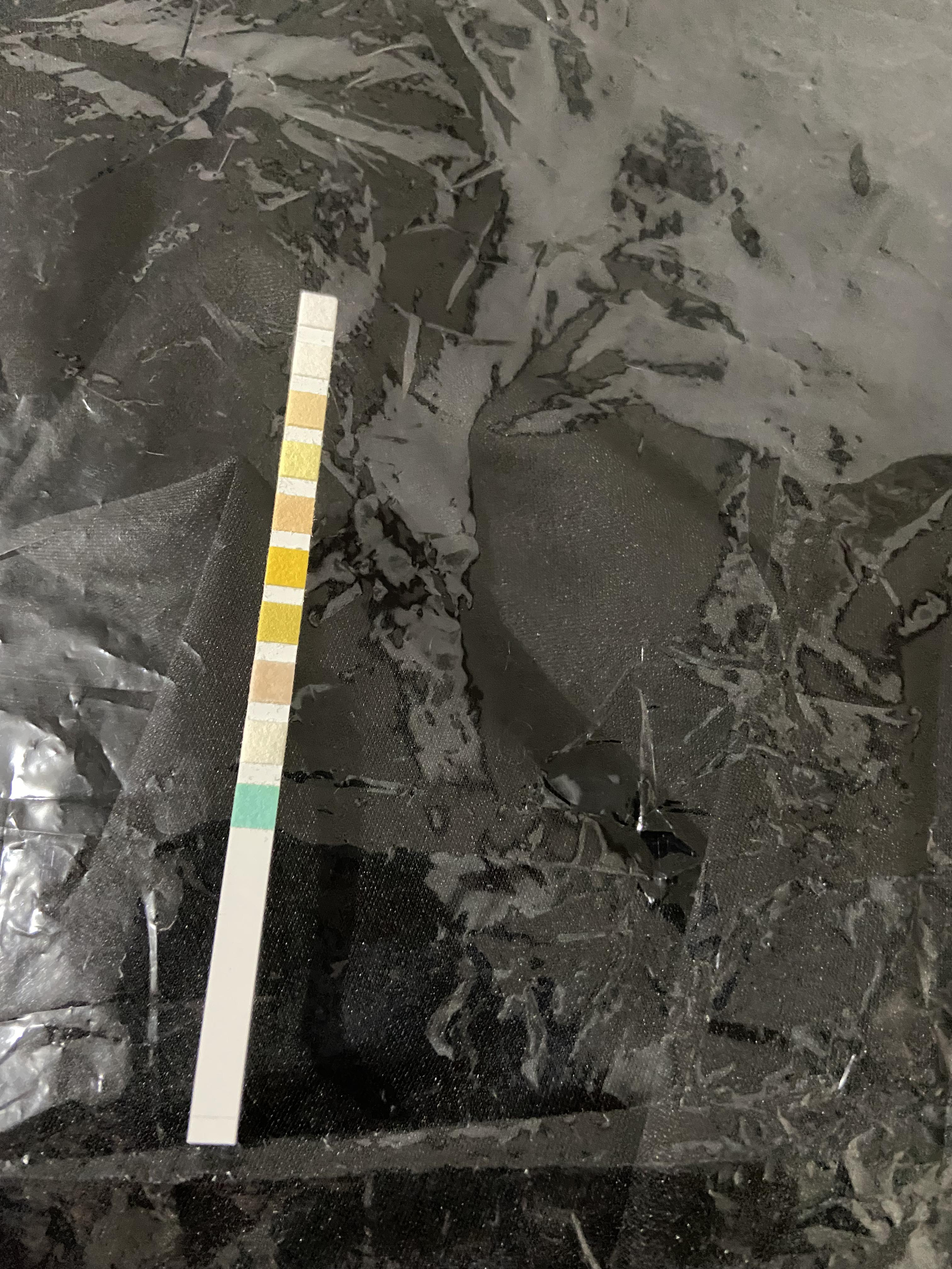Bilirubin: (246, 723, 282, 761)
Blood: (269, 552, 305, 584)
Glucose: (236, 786, 275, 826)
Ketone: (254, 663, 290, 700)
Leukocytes: (290, 394, 324, 425), (301, 299, 334, 324)
Nitrite: (295, 346, 330, 373)
Protein: (282, 447, 318, 476)
SpGravity: (262, 606, 300, 640)
pH: (276, 499, 312, 529)
strip: (188, 290, 339, 1144)
